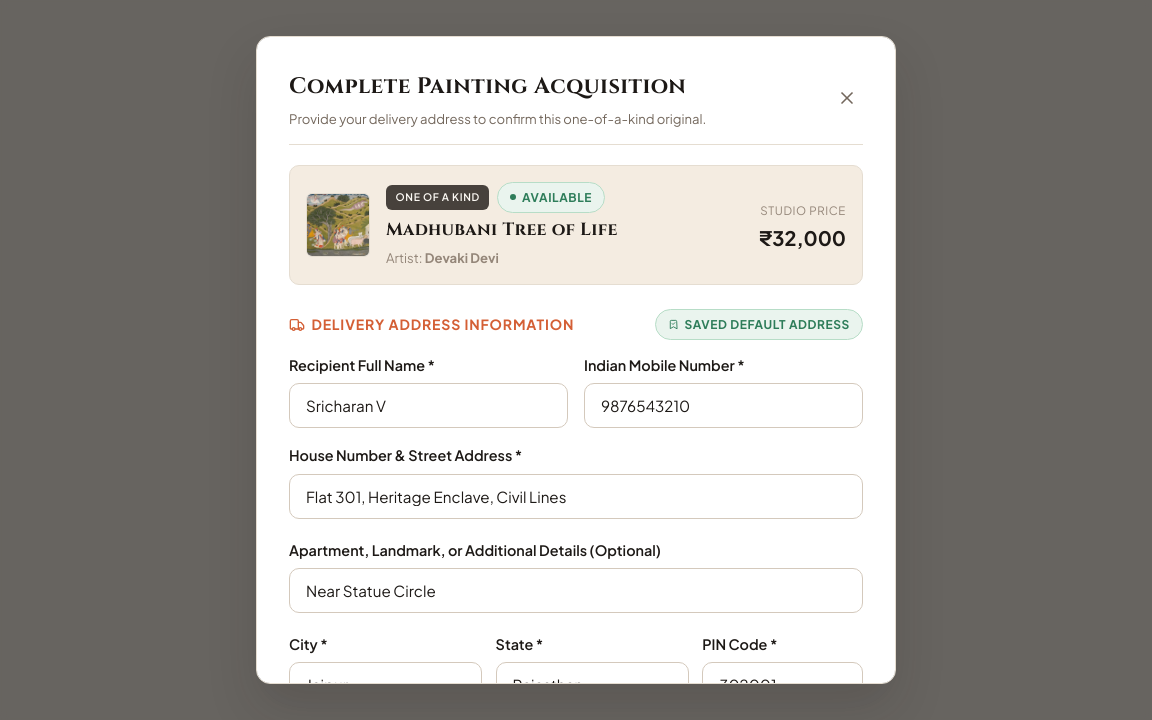
Scenario: PART 2: Default Address Usage in Checkout & Wall Mural Booking › distinguishes modified address as Order-Specific when customer edits prefilled fields
Replace the text in the field labelled "House Number & Street Address *" with "New Temporary Address 123" at [576, 496], box [289, 474, 863, 519]
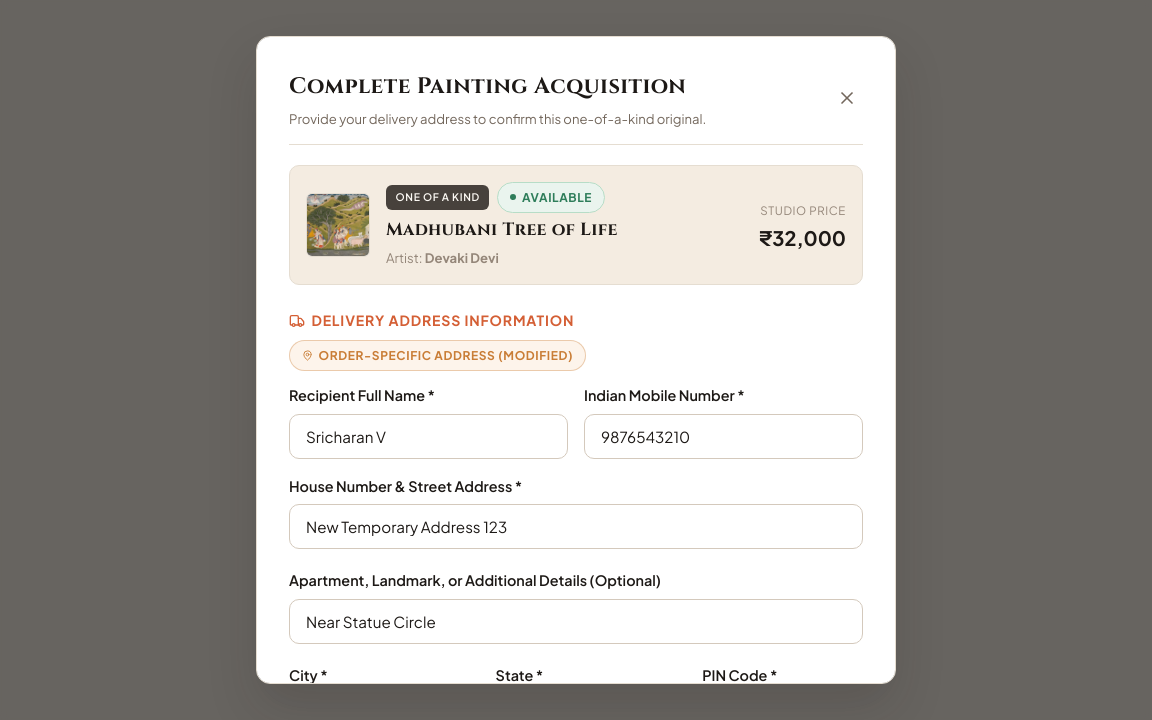
Now the text "Order-Specific Address (Modified)" is shown, box [289, 340, 586, 371]
